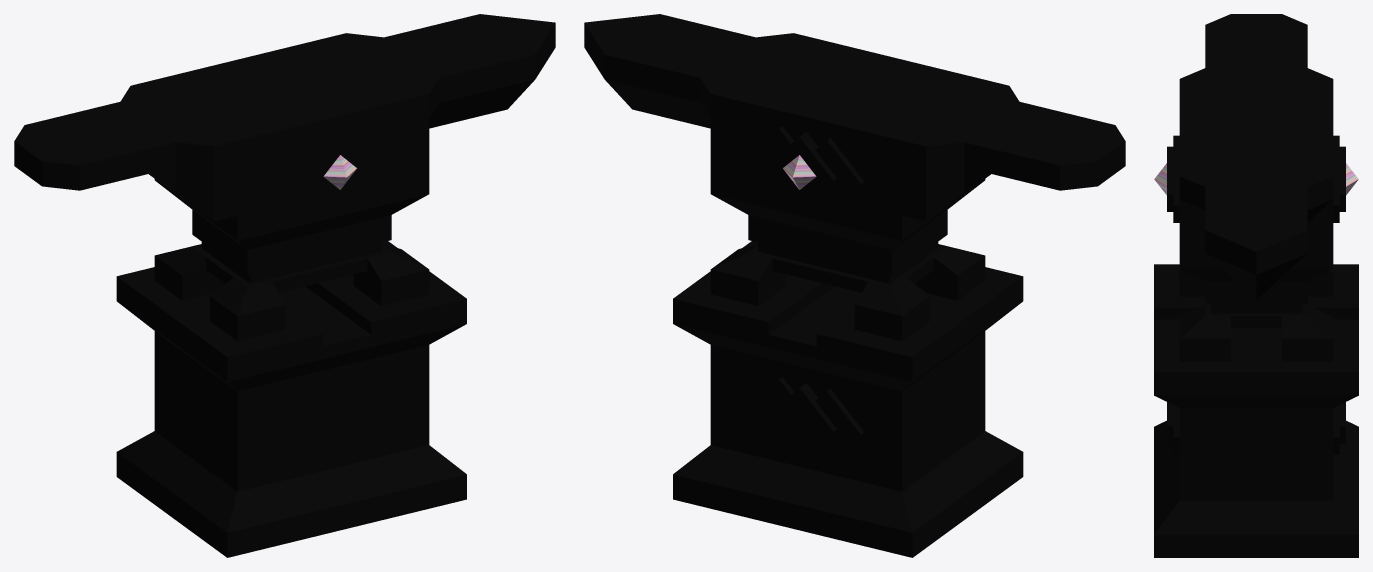
Rendered from runic_anvil.obj.
The picture shows the model from 3 angles, left to right: view 1: azimuth 30°, elevation 25°; view 2: azimuth 150°, elevation 25°; view 3: azimuth 270°, elevation 25°; orthographic projection. The views are drawn at different scales.
Parts seen in each view (by area): view 1: ANVIL_Cube.002; view 2: ANVIL_Cube.002; view 3: ANVIL_Cube.002.
Part boxes in pixels (x1=…): ANVIL_Cube.002: x1=14, y1=14, x2=555, y2=557; ANVIL_Cube.002: x1=584, y1=14, x2=1125, y2=557; ANVIL_Cube.002: x1=1154, y1=14, x2=1358, y2=557.
Bounding box in the file's own units: 1.38 × 1 × 0.5.
